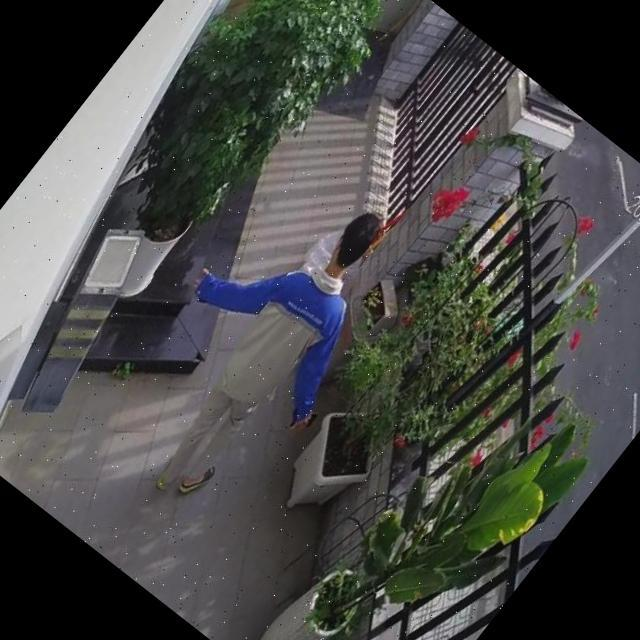person: (80, 157, 431, 538)
